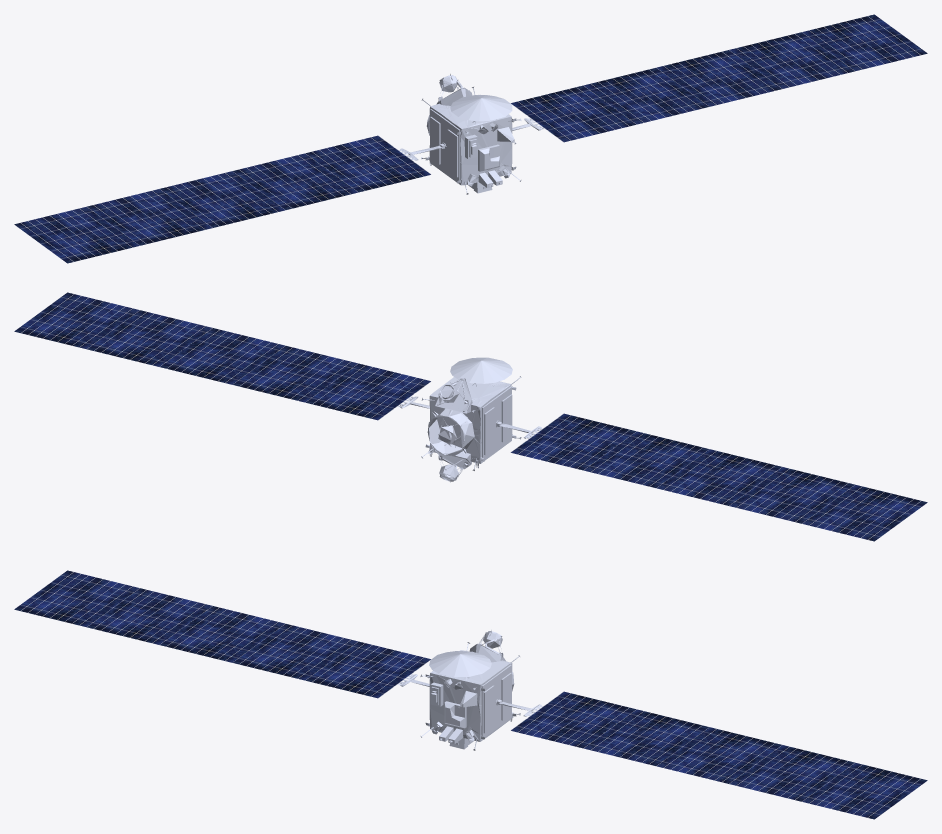
The model's file is active.glb.
3 views of the same model, one above another, from view 1: azimuth 30°, elevation 25°; view 2: azimuth 150°, elevation 25°; view 3: azimuth 330°, elevation 25° (orthographic).
Visible parts, largest first — view 1: Dawn 19, Dawn 19.001; view 2: Dawn 19, Dawn 19.001; view 3: Dawn 19, Dawn 19.001.
Boxes of the visible parts, <box> form: Dawn 19: <box>14,14,927,263</box>; Dawn 19.001: <box>421,87,521,194</box>; Dawn 19: <box>14,292,927,541</box>; Dawn 19.001: <box>421,376,521,470</box>; Dawn 19: <box>14,570,927,819</box>; Dawn 19.001: <box>420,642,520,750</box>.
Bounding box in the file's own units: 118 × 13.3 × 13.18.
Materials: 2 (1 with a texture image).
